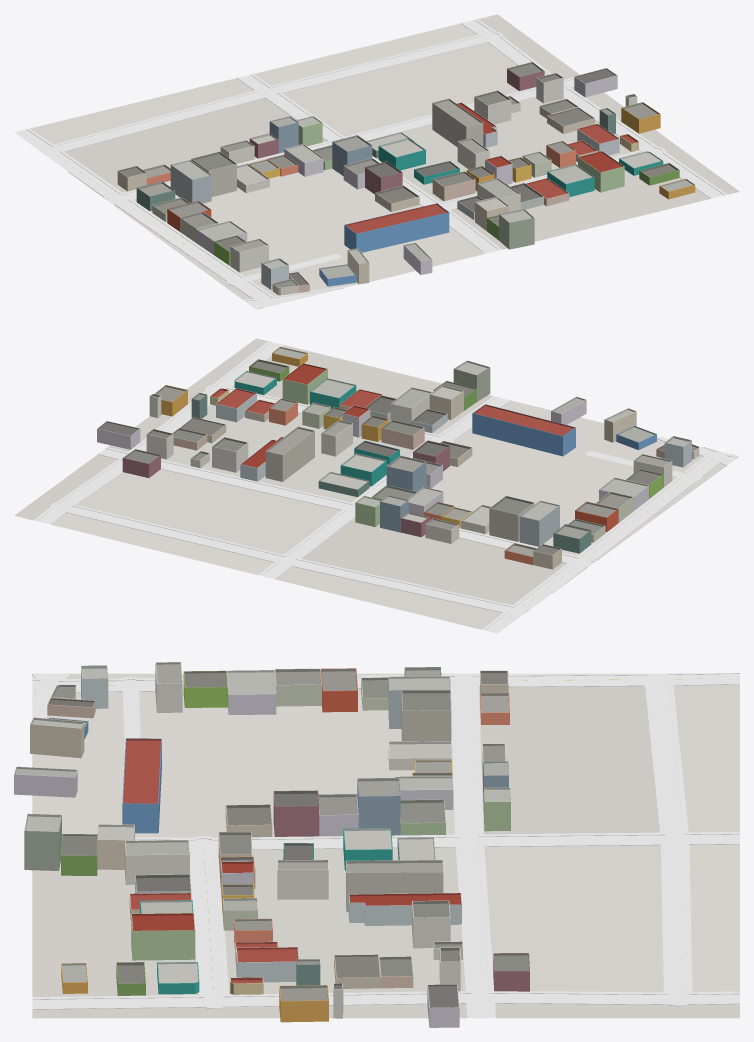
3 views of the same model, one above another, from view 1: azimuth 30°, elevation 25°; view 2: azimuth 150°, elevation 25°; view 3: azimuth 270°, elevation 25° (orthographic). The views are drawn at different scales.
Visible parts, largest first — view 1: ground, walls, roofs, asphalt, sidewalk; view 2: ground, walls, roofs, asphalt, sidewalk; view 3: ground, roofs, walls, asphalt, sidewalk.
Boxes of the visible parts, x1,y1,x2,y2 form: ground: [30, 14, 739, 309]; walls: [117, 69, 695, 295]; roofs: [118, 62, 694, 287]; asphalt: [15, 20, 724, 308]; sidewalk: [14, 19, 727, 309]; ground: [14, 338, 736, 629]; walls: [97, 353, 699, 569]; roofs: [97, 346, 699, 556]; asphalt: [37, 342, 737, 633]; sidewalk: [34, 341, 739, 632]; ground: [32, 673, 739, 1018]; roofs: [14, 662, 529, 1007]; walls: [14, 664, 529, 1027]; asphalt: [32, 673, 739, 1018]; sidewalk: [32, 673, 739, 1017].
Size of what is drawn, in the model's own units: 257 by 13.39 by 223.
